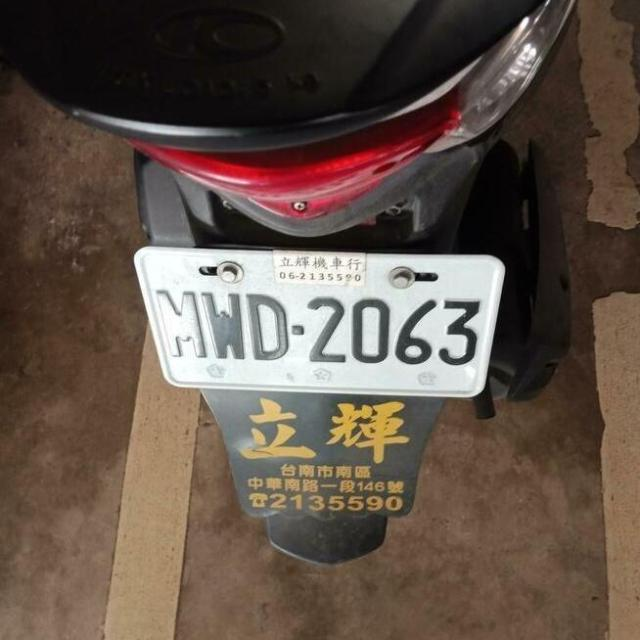W: (131, 226, 512, 417)
